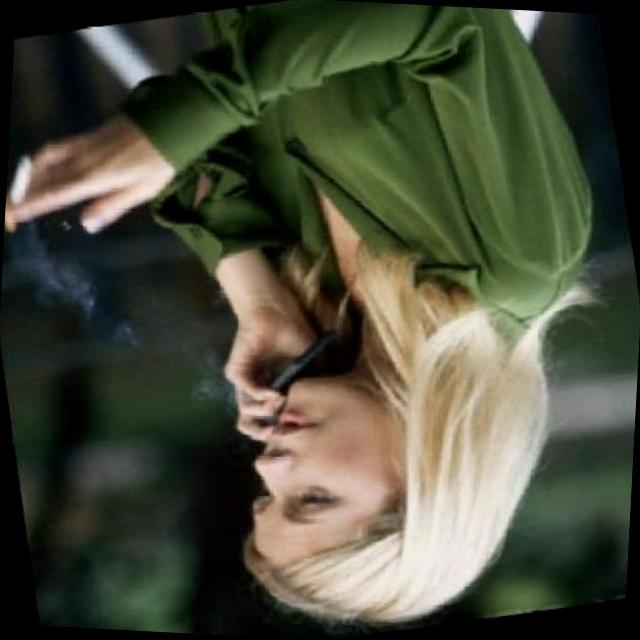cigarette: (4, 148, 52, 238)
